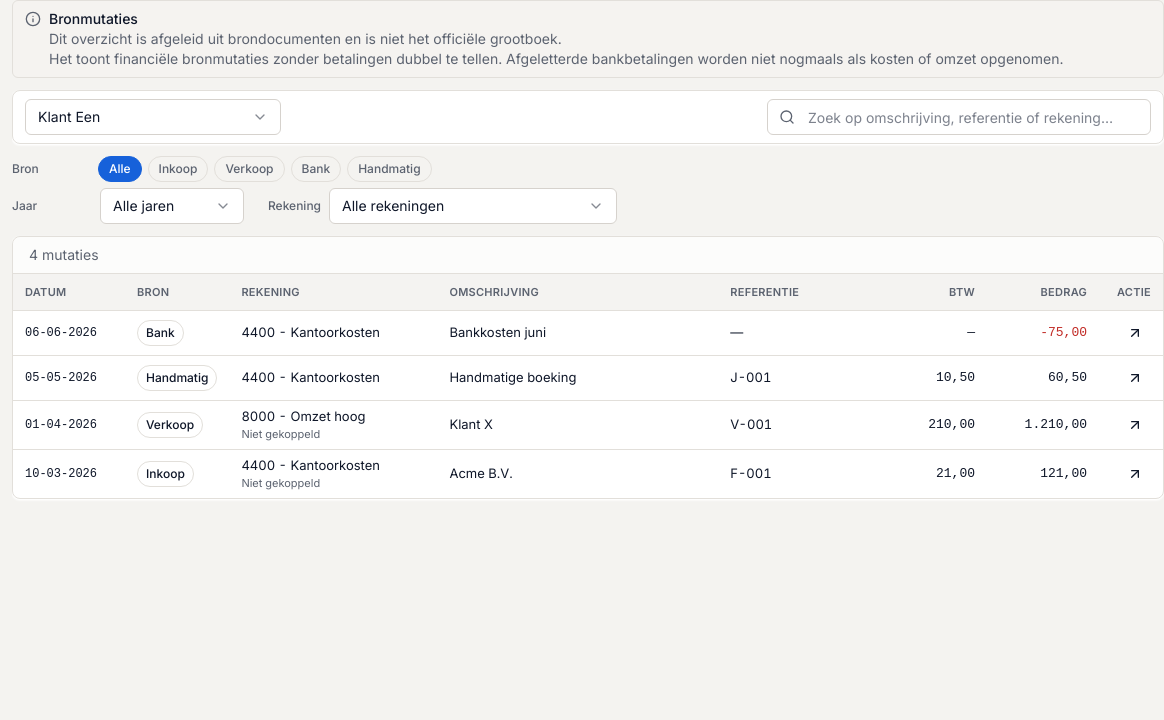
Test case: Grootboekmutaties — filters › 34. filtert op bron
expect the text "Acme B.V." is shown: met, box top-left (437, 449), bottom-right (718, 498)
Click the button "Bank".
click(316, 169)  # box top-left (290, 156), bottom-right (341, 182)
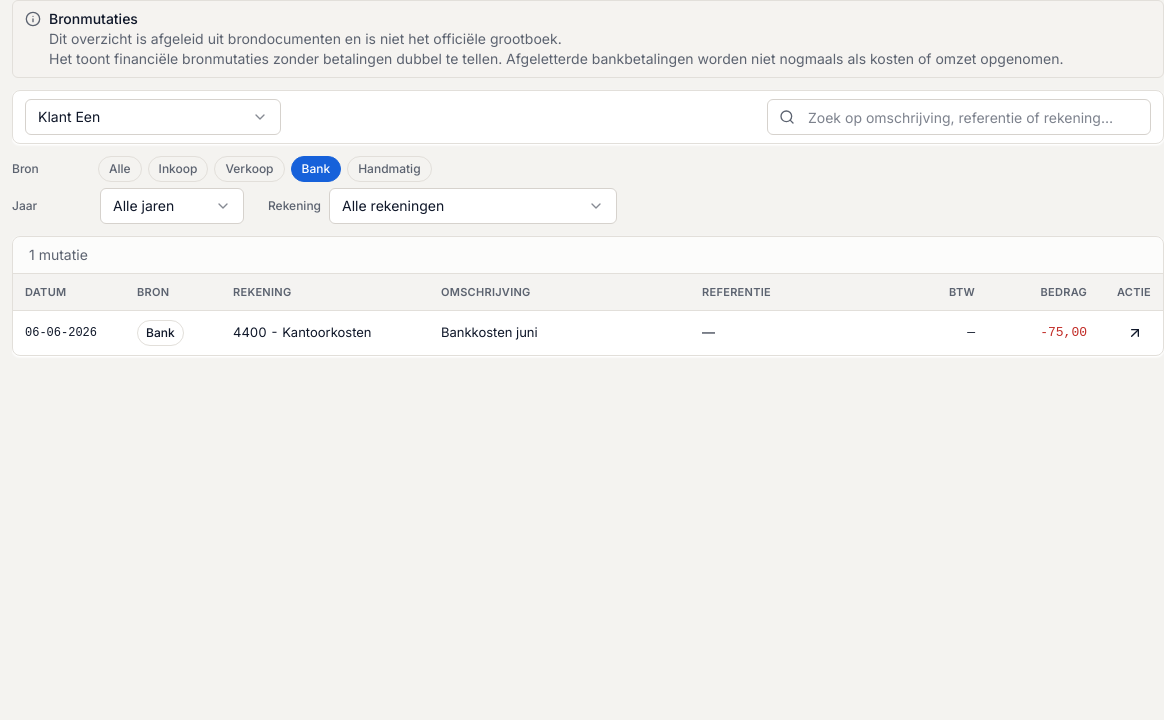
expect the text "Bankkosten juni" is shown: met, box top-left (429, 310), bottom-right (690, 354)
expect the text "Acme B.V." is gone: met
expect the text "Klant X" is gone: met
